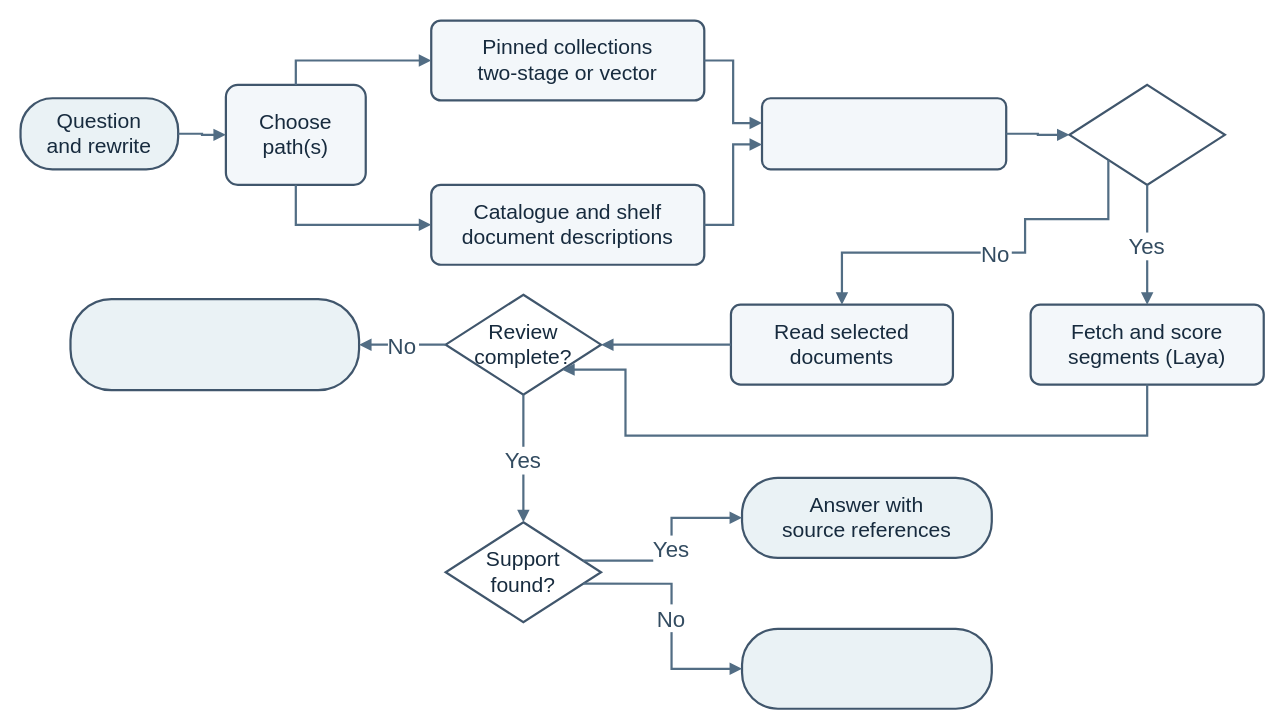
The diagram is 1283 pixels wide and 728 high, and some of its shapes have lost their labels. Each missing label, with the centre of its shape:
"Candidate references (optional merge)" goes at point 883,133.
"Report incomplete scope and partial evidence, if any" goes at point 214,344.
"Scoped not-found and blind spots" goes at point 866,668.
"Use Laya gate?" goes at point 1146,134.
